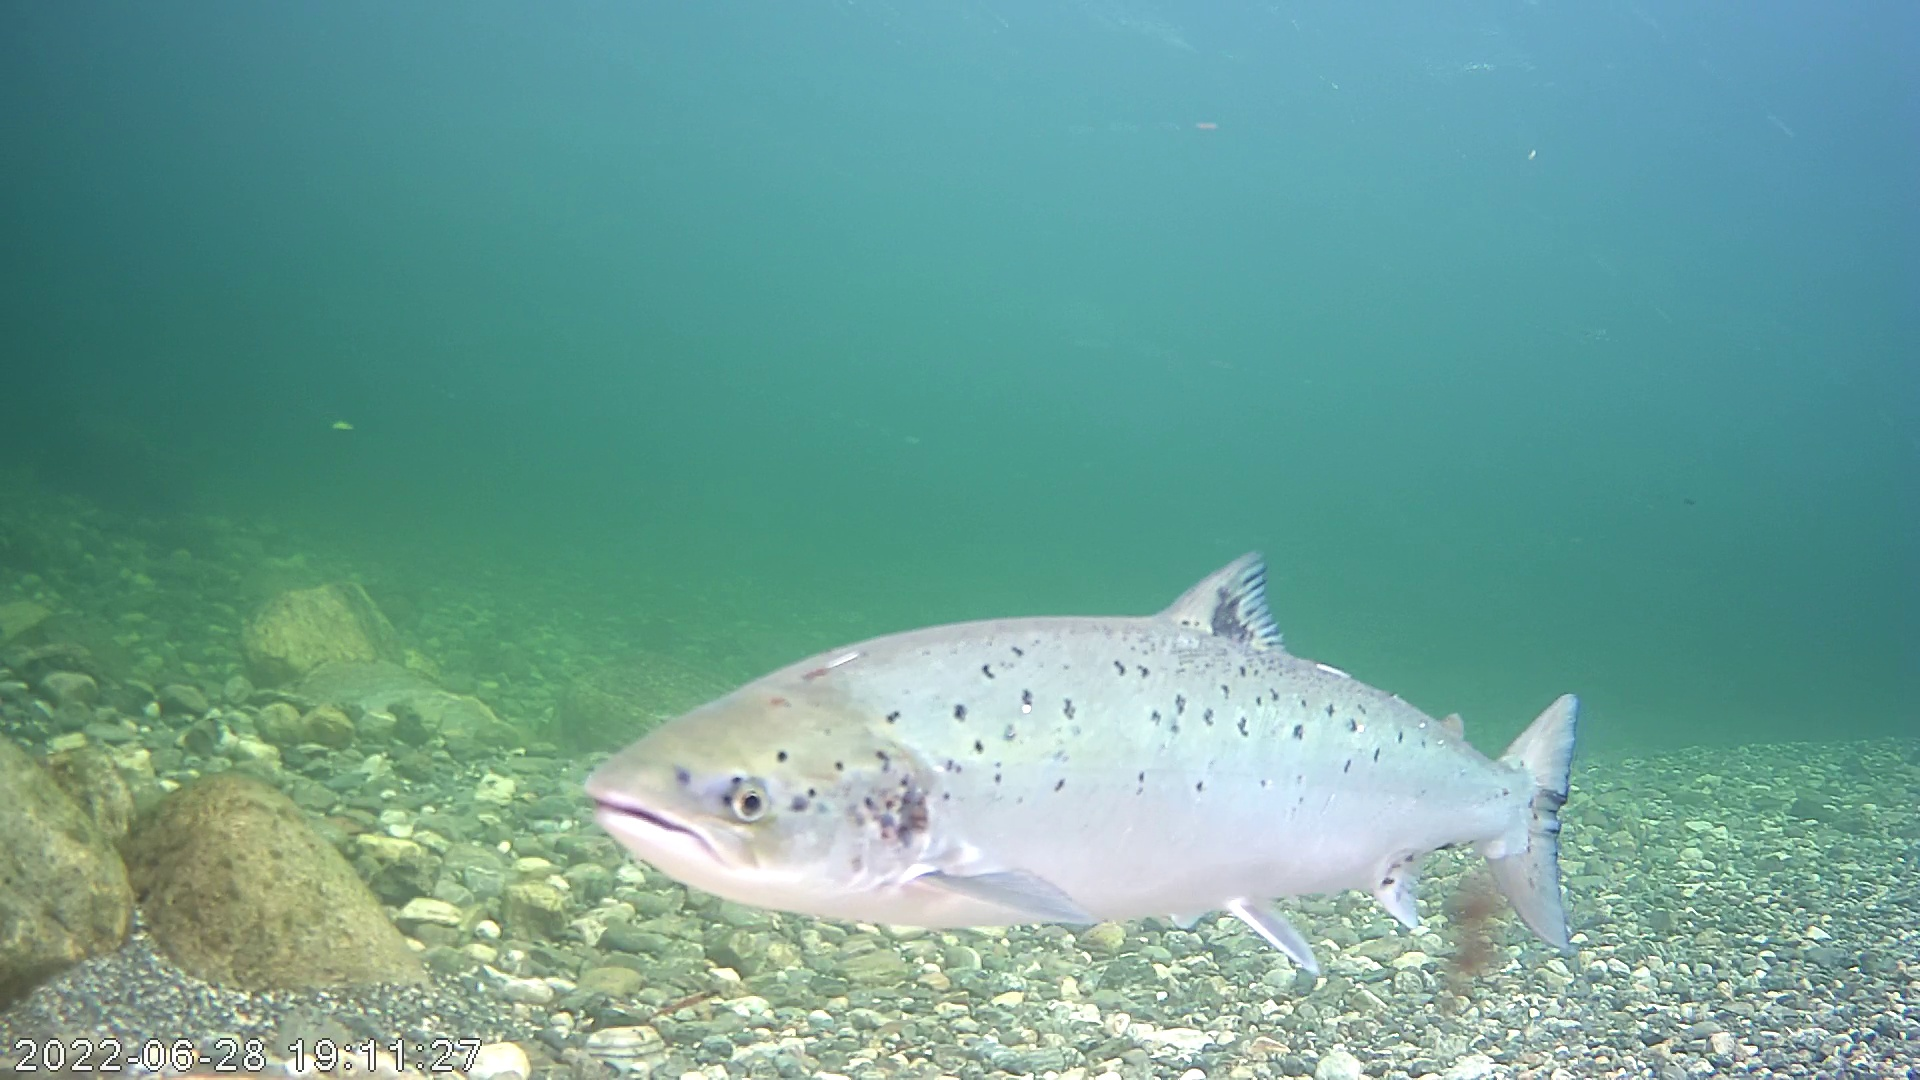salmon: (558, 498, 1623, 963)
